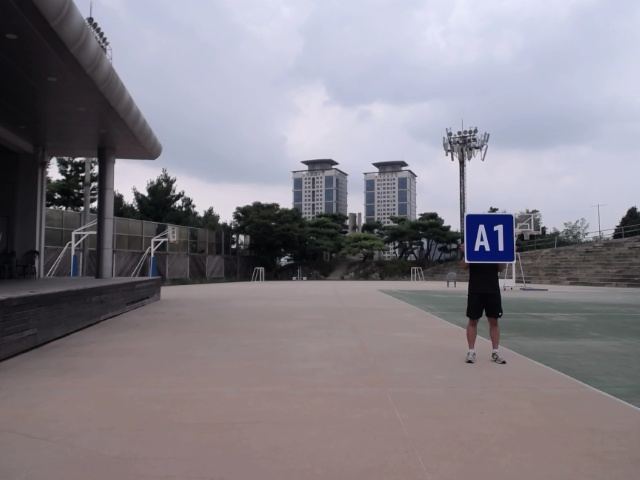delivery_a1: (466, 214, 515, 262)
